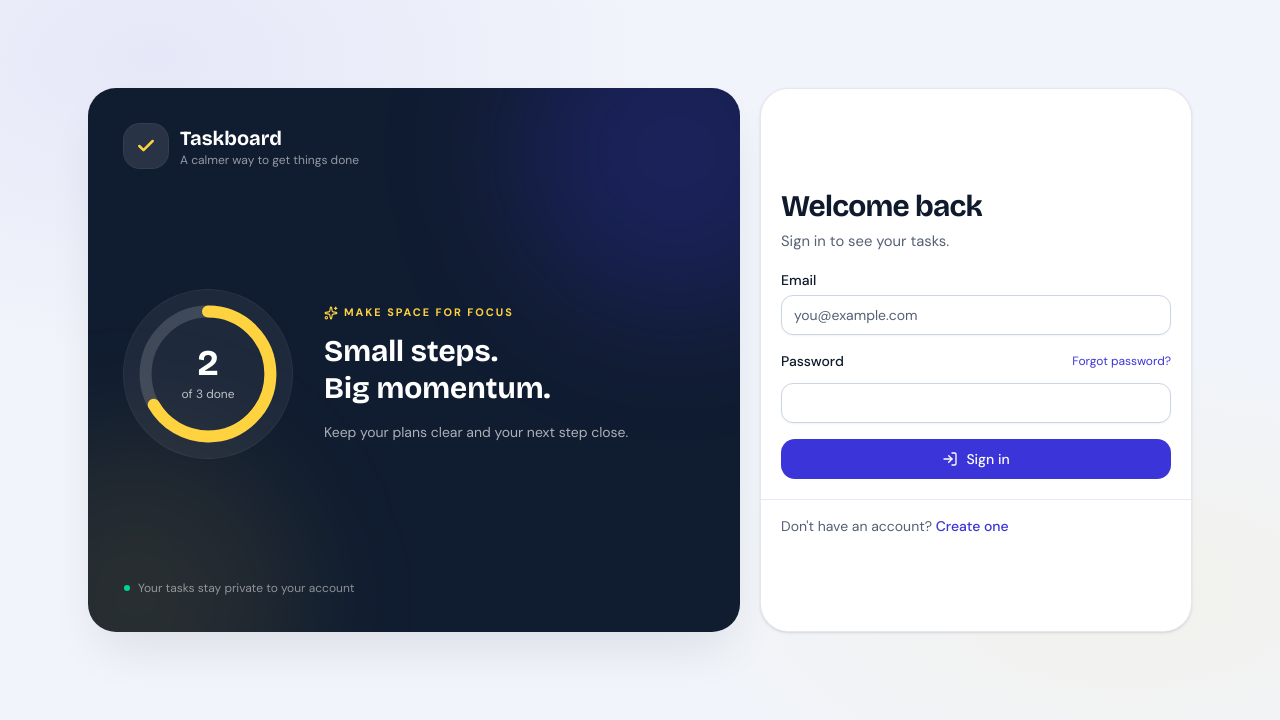
it: LoginPage › shows form validation errors without sending a request
Click the button "Sign in": click(976, 459) [781,439,1171,479]
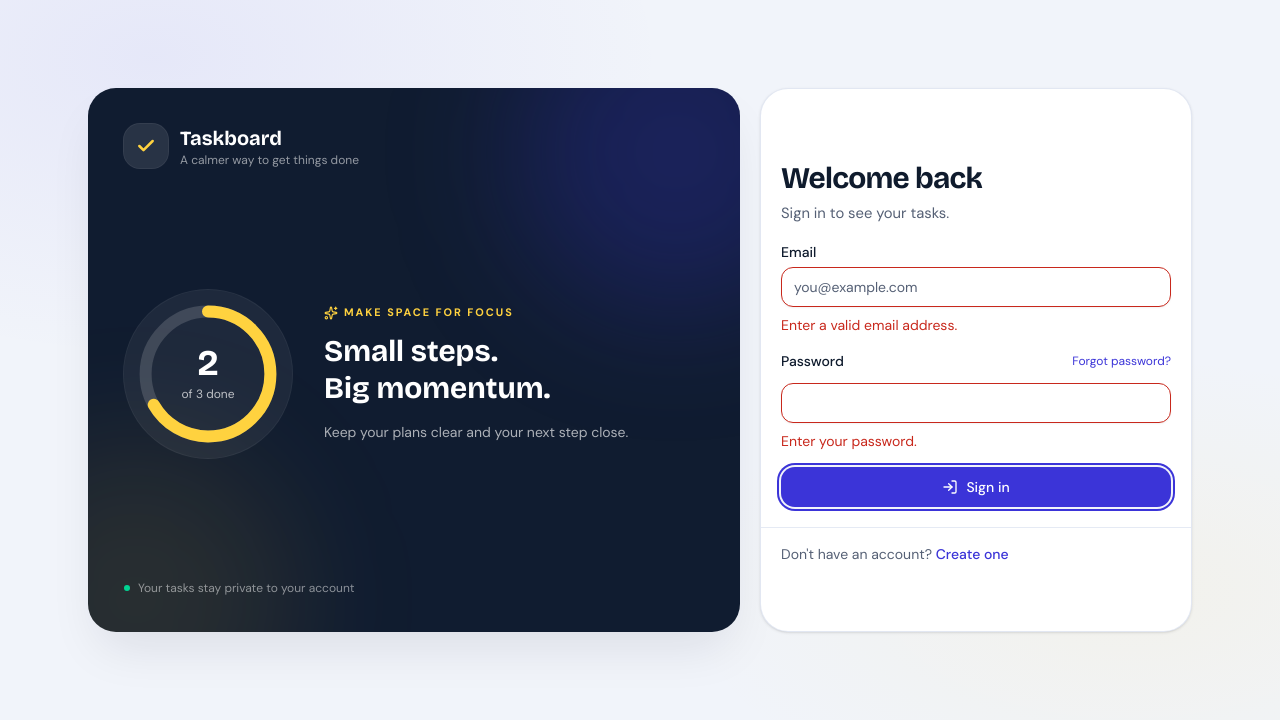
expect the text "Enter a valid email address." is shown: met, box [781,316,957,334]
expect the text "Enter your password." is shown: met, box [781,432,917,450]
